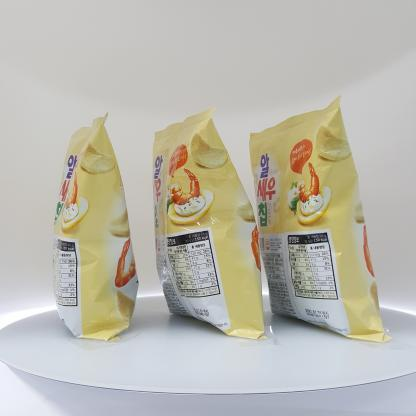Plastic Packaging: (157, 110, 266, 342), (274, 96, 378, 332), (48, 103, 134, 347)
